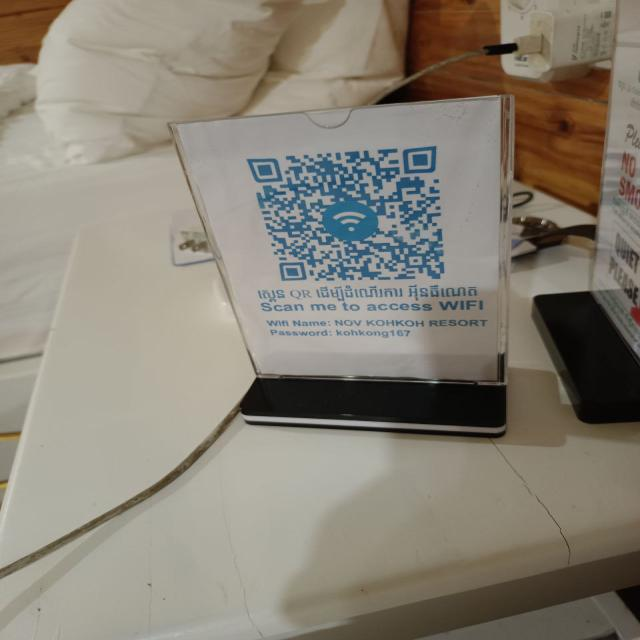1: (313, 284, 484, 302)
606: (387, 328, 412, 340)
Yolov11_80vkh: (253, 288, 288, 304)
